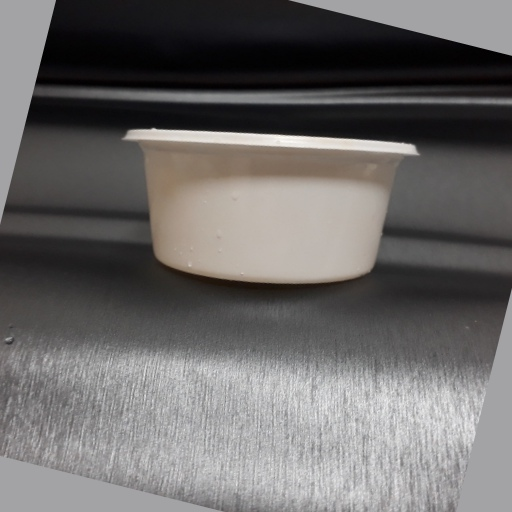Plastic_5: (119, 119, 420, 291)
